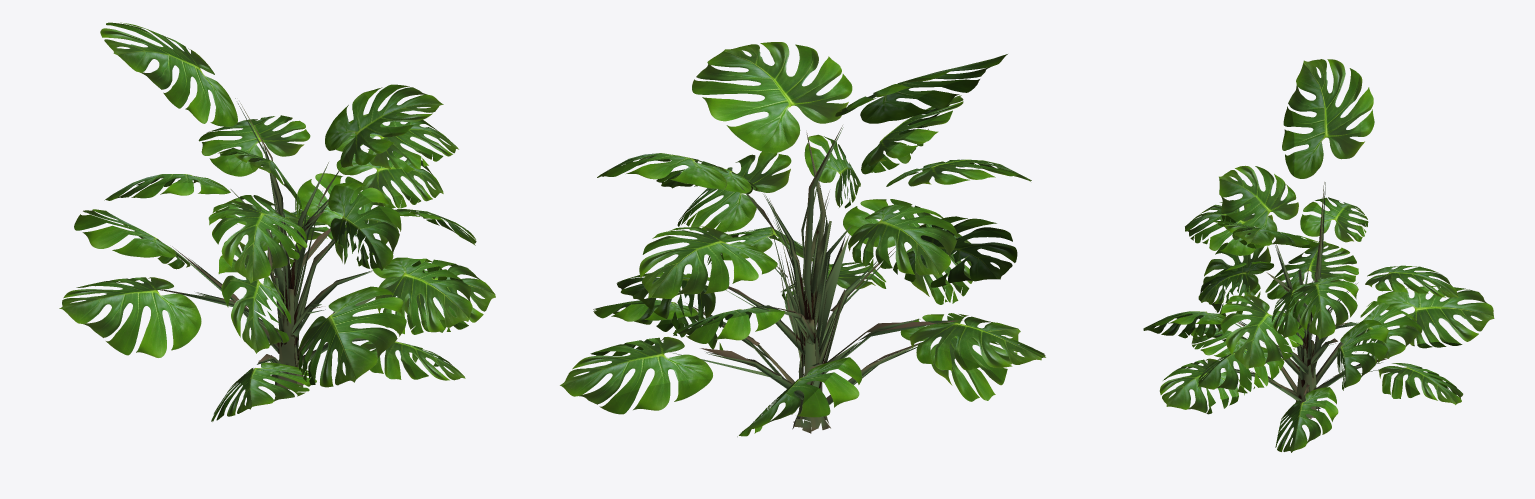
File: costela_de_adao.glb
The picture shows the model from 3 angles, left to right: view 1: azimuth 30°, elevation 25°; view 2: azimuth 150°, elevation 25°; view 3: azimuth 270°, elevation 25°; orthographic projection. The views are drawn at different scales.
Parts seen in each view (by area): view 1: tree.007SM_MZRa_Monstera_B072_MI_MZRa_Monstera_B07a1_0; view 2: tree.007SM_MZRa_Monstera_B072_MI_MZRa_Monstera_B07a1_0; view 3: tree.007SM_MZRa_Monstera_B072_MI_MZRa_Monstera_B07a1_0.
Boxes of the visible parts, left/top/right/bottom form: tree.007SM_MZRa_Monstera_B072_MI_MZRa_Monstera_B07a1_0: left=59, top=22, right=495, bottom=421; tree.007SM_MZRa_Monstera_B072_MI_MZRa_Monstera_B07a1_0: left=560, top=42, right=1045, bottom=436; tree.007SM_MZRa_Monstera_B072_MI_MZRa_Monstera_B07a1_0: left=1143, top=59, right=1494, bottom=452.
Bounding box in the file's own units: 1.13 × 1 × 1.11.
2 materials, 2 textured.
